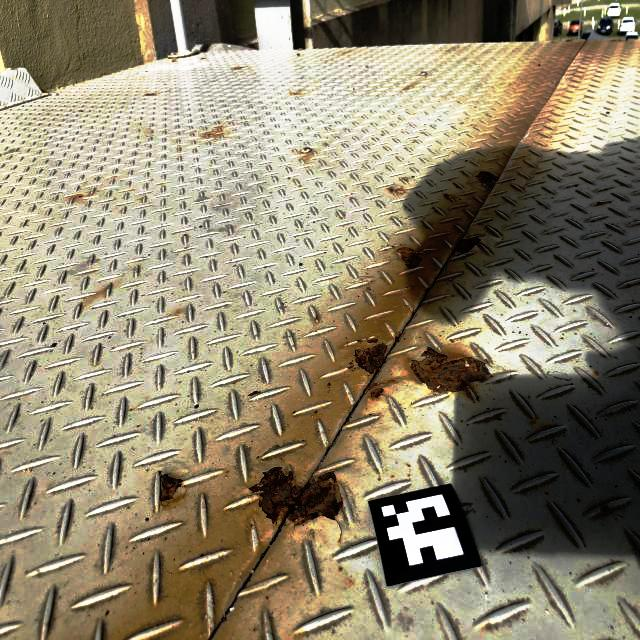Corrosion: (247, 465, 345, 526), (407, 345, 494, 396), (352, 338, 389, 377), (158, 470, 183, 503), (365, 378, 398, 400), (450, 236, 480, 257), (397, 246, 421, 271), (475, 171, 498, 190), (390, 187, 404, 193), (597, 201, 604, 206), (316, 313, 319, 323), (445, 193, 451, 197)
